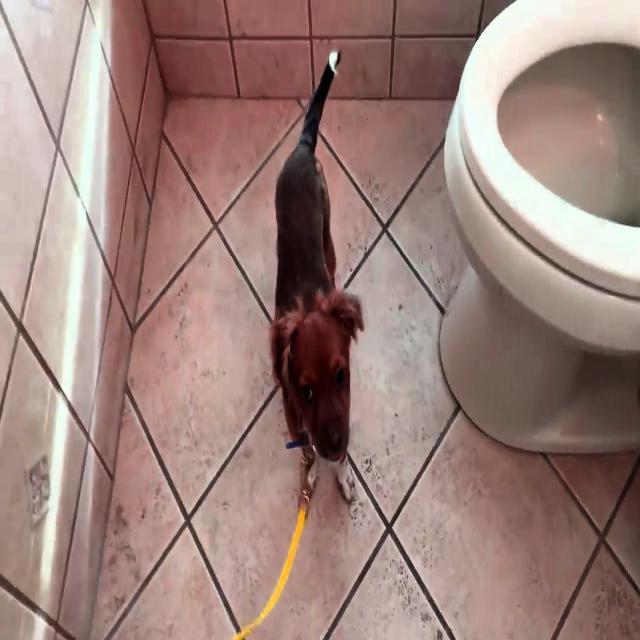Dog: (268, 48, 366, 503)
